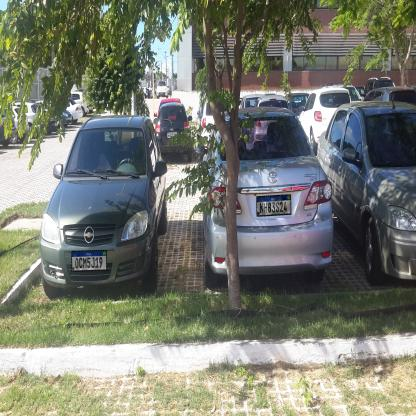PlacaM: (71, 250, 107, 272), (256, 194, 292, 216)
